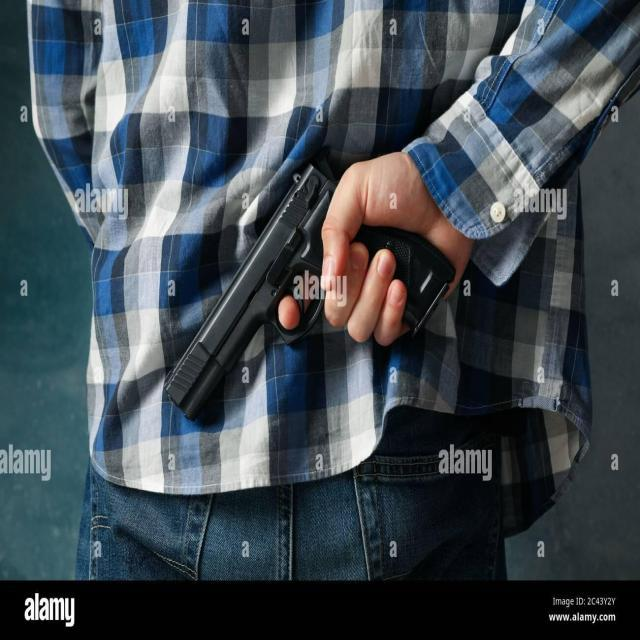gun: (168, 149, 455, 429)
